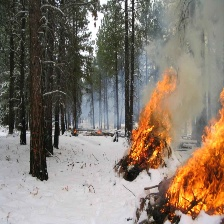fire: (165, 95, 224, 212), (125, 67, 179, 167), (71, 128, 78, 134), (97, 128, 103, 135)
smoke: (152, 1, 224, 122)
